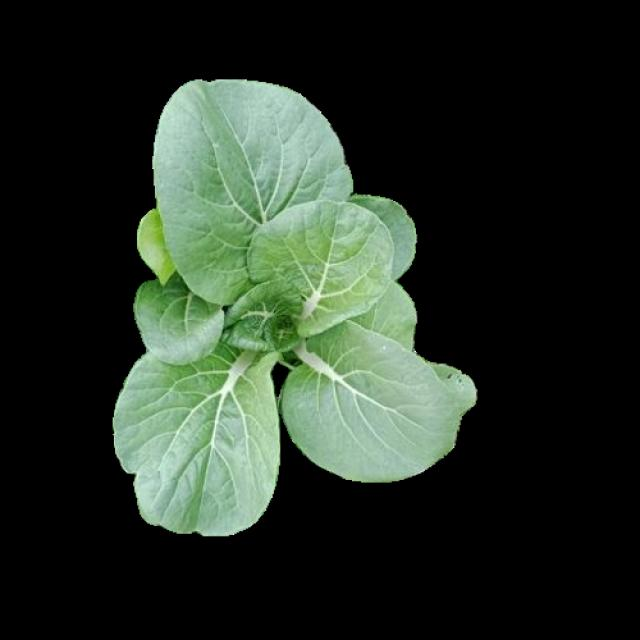mature: (115, 84, 474, 536)
unhealthy: (281, 328, 475, 473)
